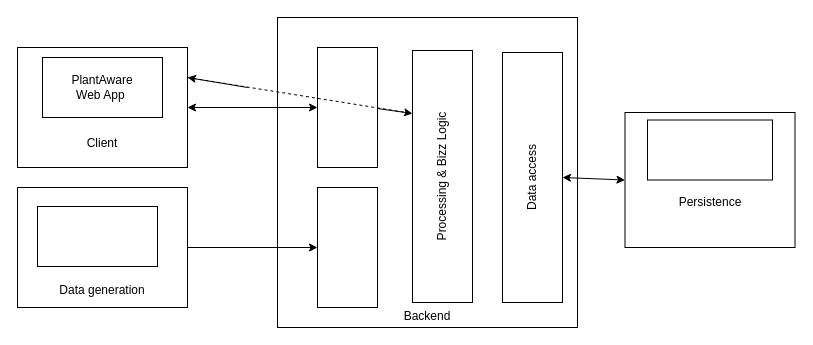
This 813x345 diagram has some shape labels left out. Each missing label, with the centre of its shape:
Long-term Storage (DB): point (709, 149)
Message Queues: point (347, 247)
Sensores Spikes: point (97, 236)
Service Layer(API): point (347, 107)
